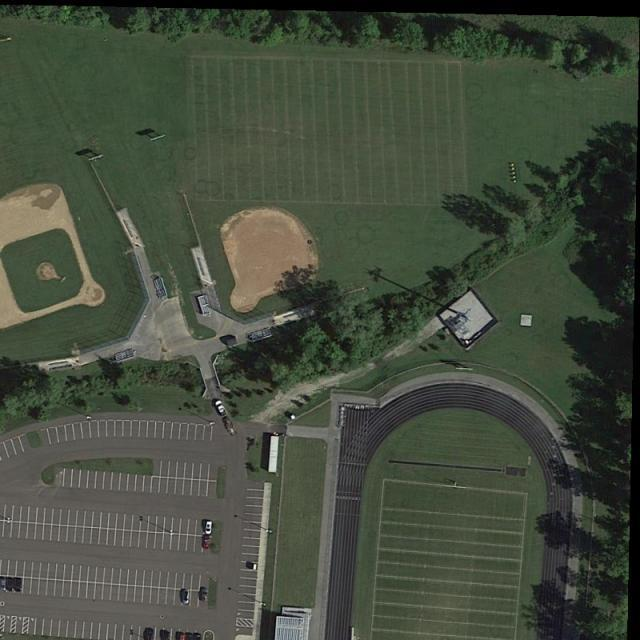vehicle: (214, 400, 229, 418), (202, 535, 212, 551), (199, 586, 209, 602), (204, 519, 213, 536), (182, 589, 190, 606), (6, 576, 14, 592), (15, 577, 22, 592), (146, 628, 154, 640), (162, 630, 171, 640), (1, 576, 6, 591), (178, 631, 186, 640), (186, 633, 194, 640), (194, 634, 202, 640)
